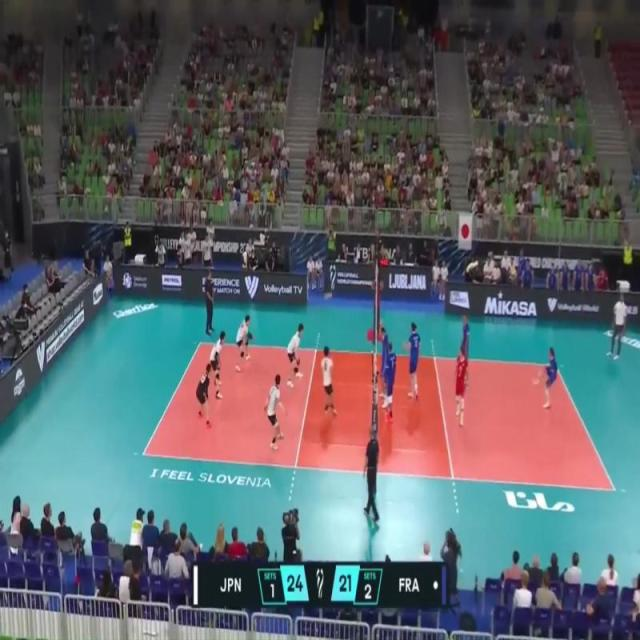volleyball: (323, 288, 333, 303)
